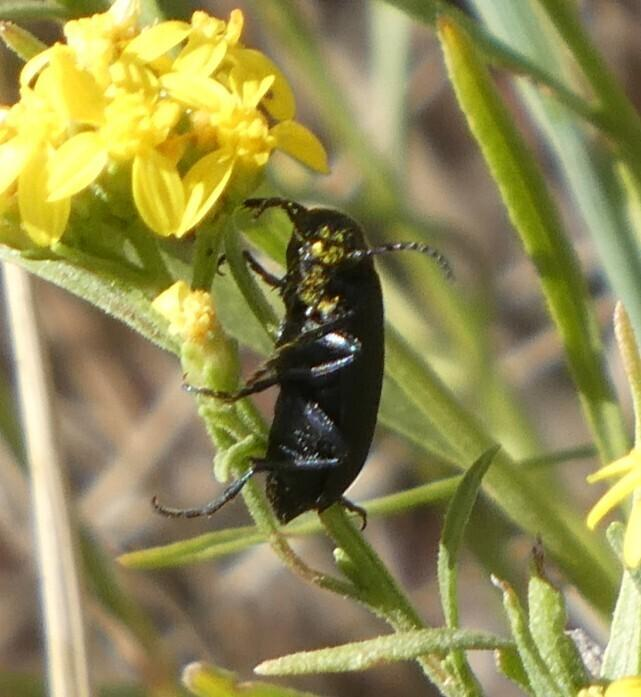blister_beetle: (121, 141, 477, 593)
